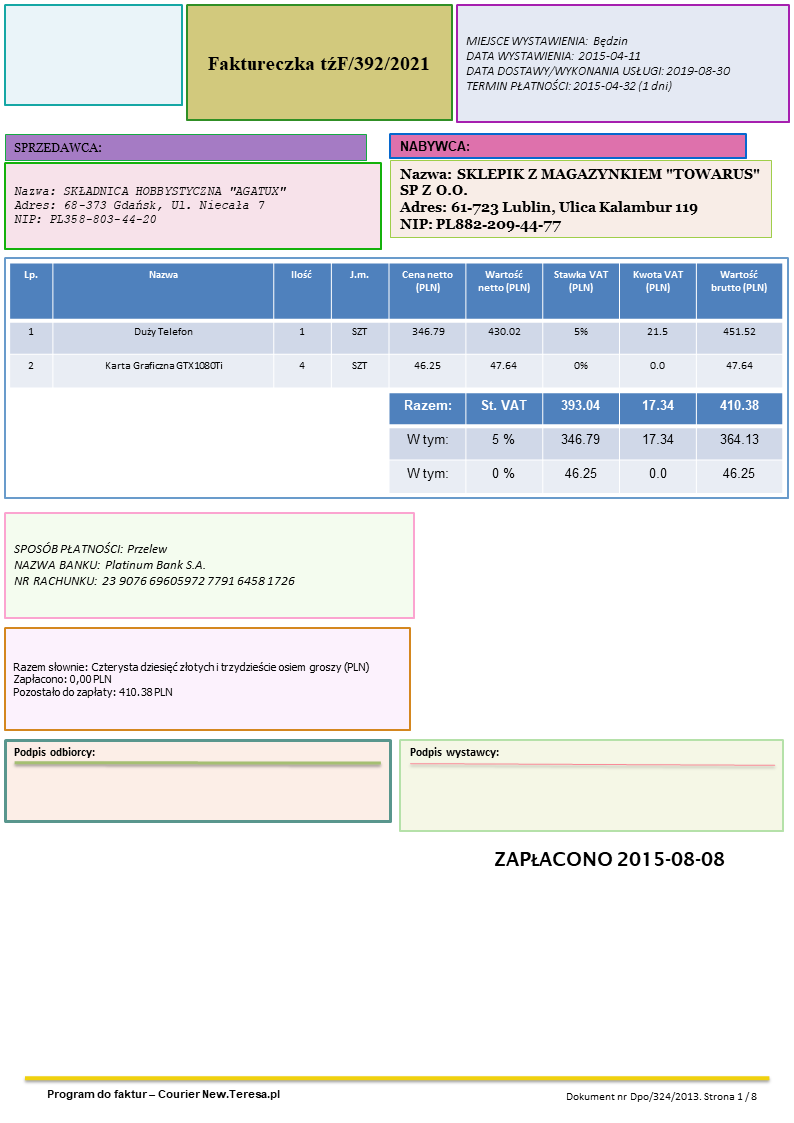Table: (9, 261, 783, 389), (388, 391, 783, 494)
TextBox: (397, 166, 762, 233), (464, 34, 732, 94), (12, 659, 371, 699), (11, 540, 297, 588), (12, 182, 287, 226), (206, 53, 430, 73), (493, 849, 725, 868), (44, 1086, 282, 1103), (564, 1088, 759, 1105), (11, 139, 105, 156), (407, 744, 500, 761), (11, 744, 97, 760), (398, 137, 471, 154)
